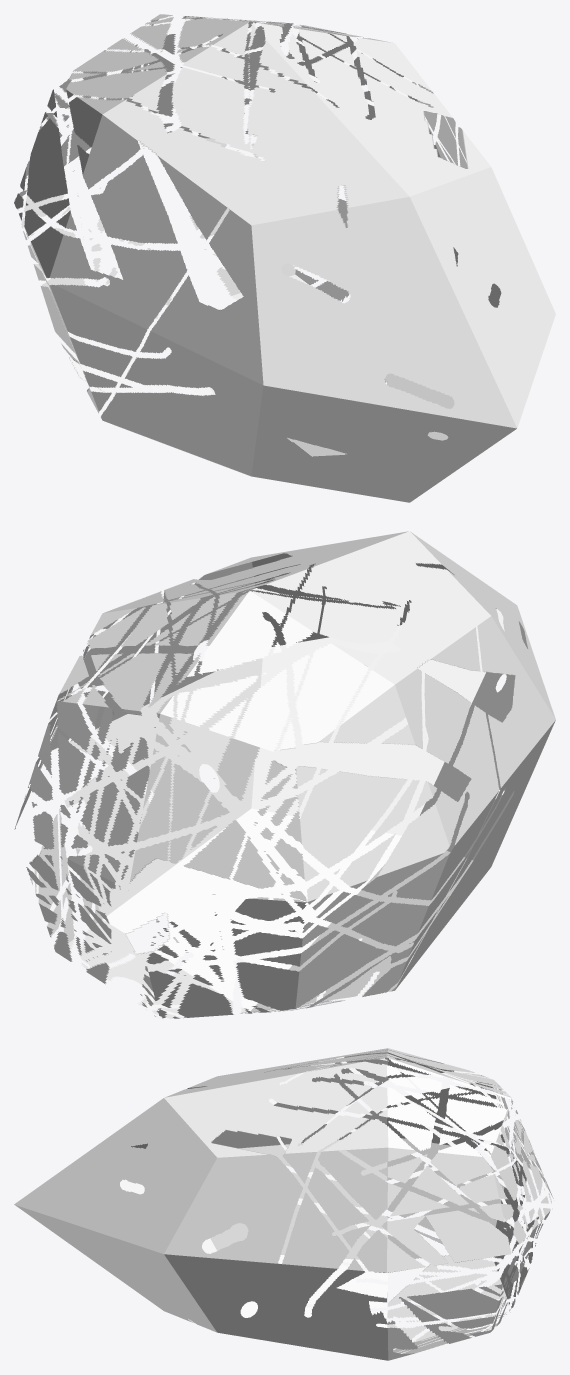
Rendered from Bullet.fbx.
3 renders of one model, top to bottom at view 1: azimuth 30°, elevation 25°; view 2: azimuth 150°, elevation 25°; view 3: azimuth 270°, elevation 25°, orthographic. The views are drawn at different scales.
Parts seen in each view (by area): view 1: Cube; view 2: Cube; view 3: Cube.
Part boxes in pixels (x1,y1,x2,y2): Cube: (14,14,555,502); Cube: (14,531,555,1019); Cube: (14,1048,553,1360).
Bounding box in the file's own units: 168 × 168 × 281.
Materials: 1 (1 with a texture image).
